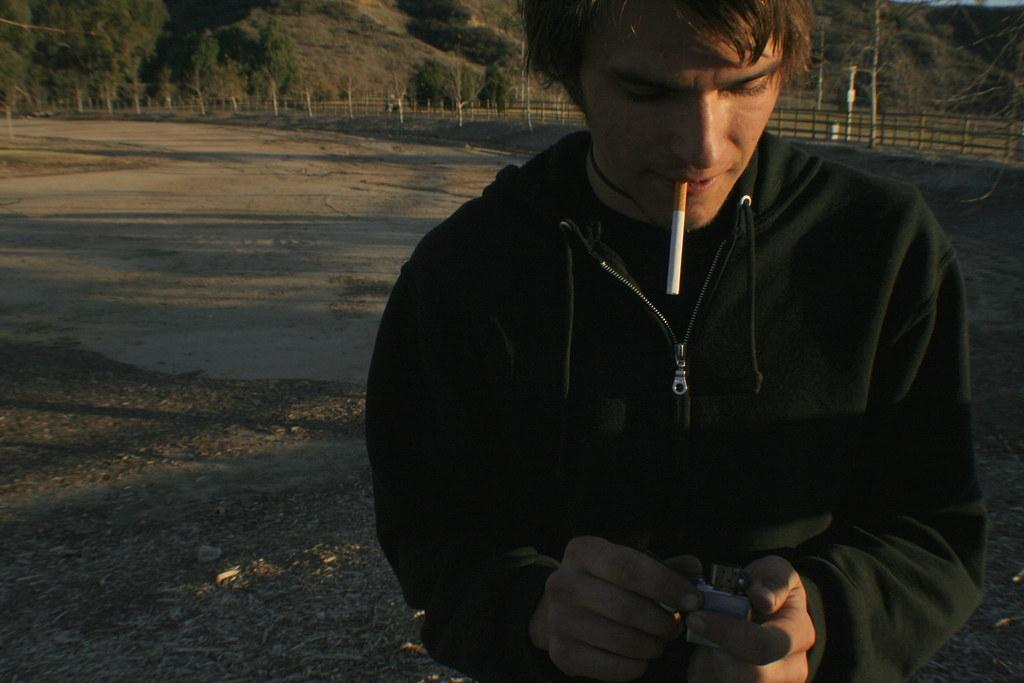cigarette: (662, 176, 693, 299)
